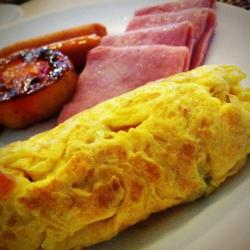omelette: (3, 72, 239, 237)
